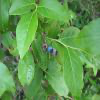Blueberry leaf: (61, 44, 87, 99), (15, 11, 38, 59), (74, 16, 99, 58), (15, 45, 35, 90), (42, 67, 69, 99), (37, 1, 73, 24), (29, 38, 49, 73), (57, 26, 86, 49), (46, 19, 61, 42)
